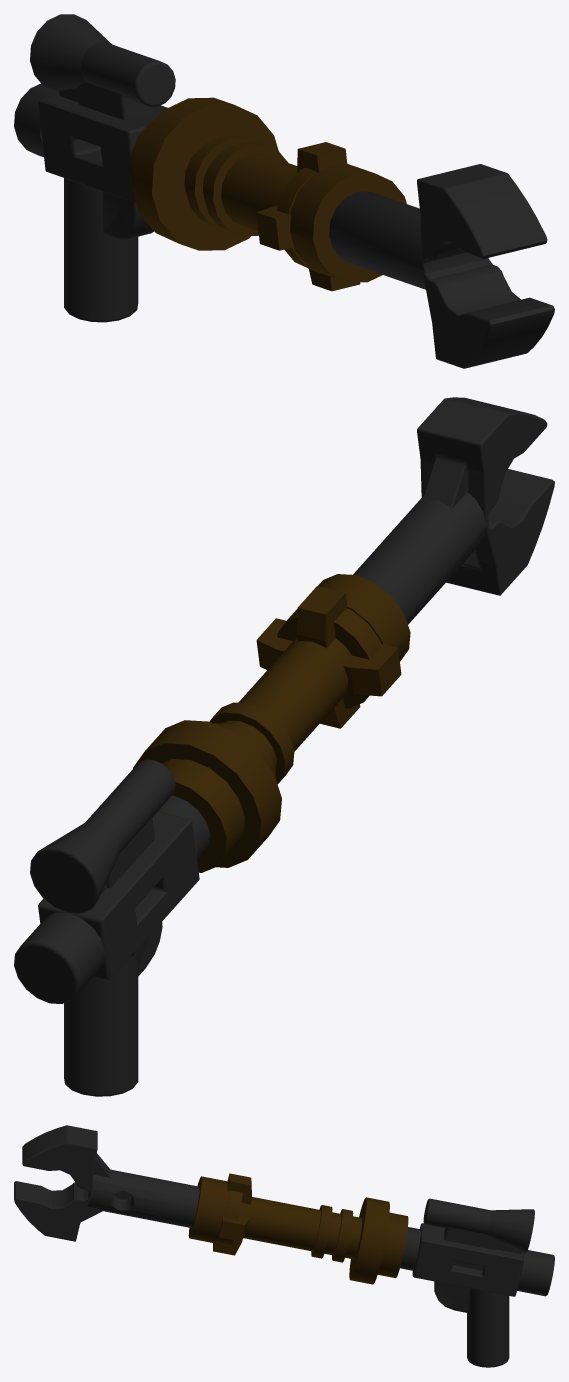
File: MandoGun.fbx
3 views of the same model, one above another, from view 1: azimuth 30°, elevation 25°; view 2: azimuth 150°, elevation 25°; view 3: azimuth 270°, elevation 25° (orthographic). The views are drawn at different scales.
Parts seen in each view (by area): view 1: 00001_92738.dat, 00002_577b.dat, 00003_48729b.dat; view 2: 00001_92738.dat, 00002_577b.dat, 00003_48729b.dat; view 3: 00001_92738.dat, 00002_577b.dat, 00003_48729b.dat.
Boxes of the visible parts, x1,y1,x2,y2 form: 00001_92738.dat: [14, 14, 175, 322]; 00002_577b.dat: [129, 97, 406, 291]; 00003_48729b.dat: [329, 164, 554, 368]; 00001_92738.dat: [14, 759, 210, 1096]; 00002_577b.dat: [133, 574, 410, 872]; 00003_48729b.dat: [353, 397, 554, 624]; 00001_92738.dat: [400, 1198, 554, 1367]; 00002_577b.dat: [188, 1173, 408, 1284]; 00003_48729b.dat: [14, 1125, 199, 1241].
Bounding box in the file's own units: 16 × 47.12 × 102.
